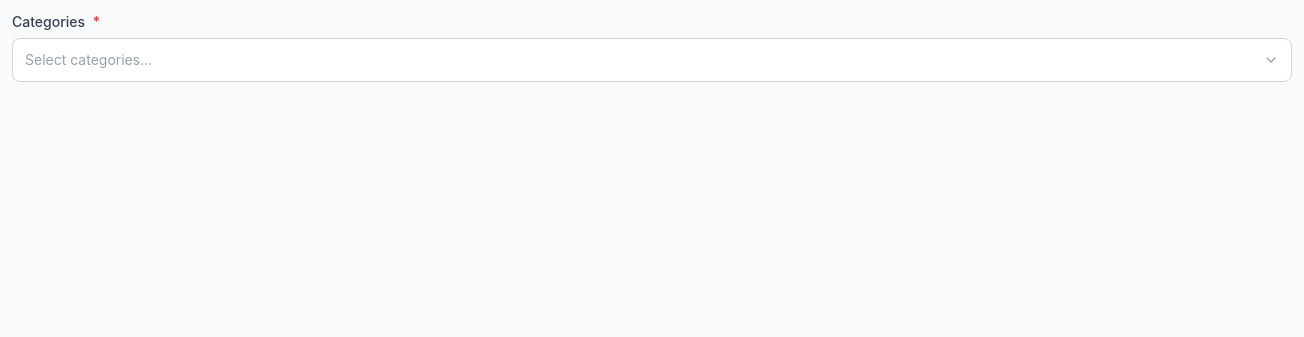
it: CategorySelector tree › renders the tree with roots expanded
This screenshot has width=1304, height=337.
Click the button "Select categories..." at (89, 60), box [12, 38, 1292, 82]
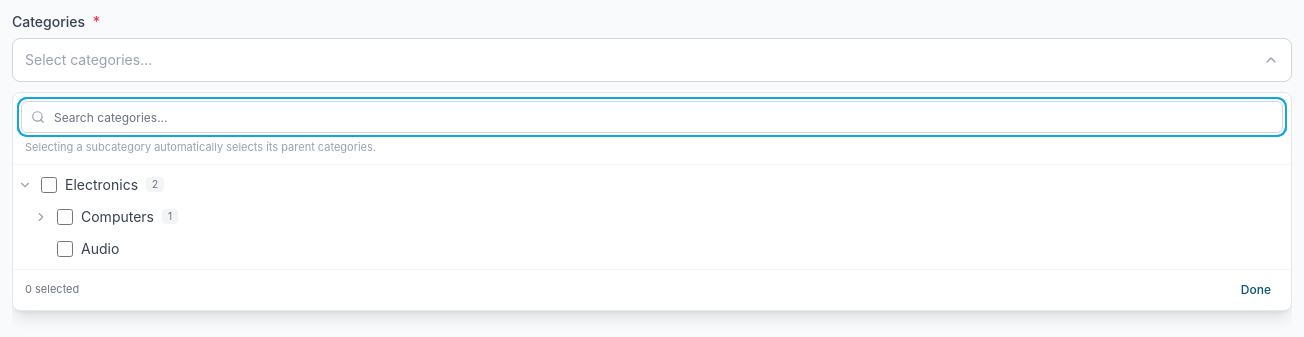
Expected: the checkbox labelled "Electronics 2" is shown, [41, 176, 57, 192]
Expected: the text "Electronics" is shown, [65, 174, 138, 194]
Expected: the text "Computers" is shown, [81, 206, 154, 226]
